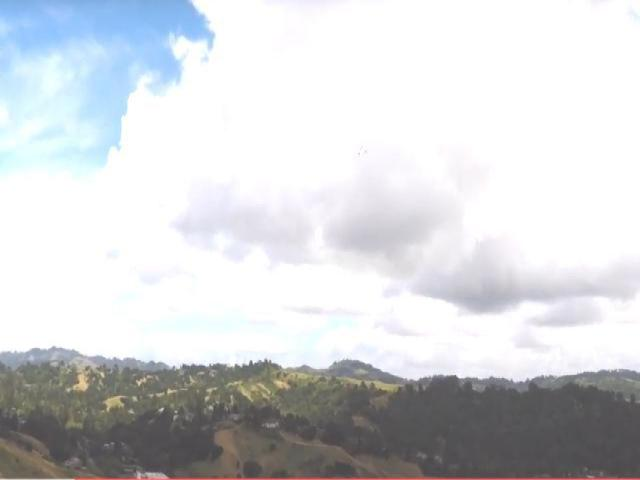iha: (355, 145, 370, 158)
